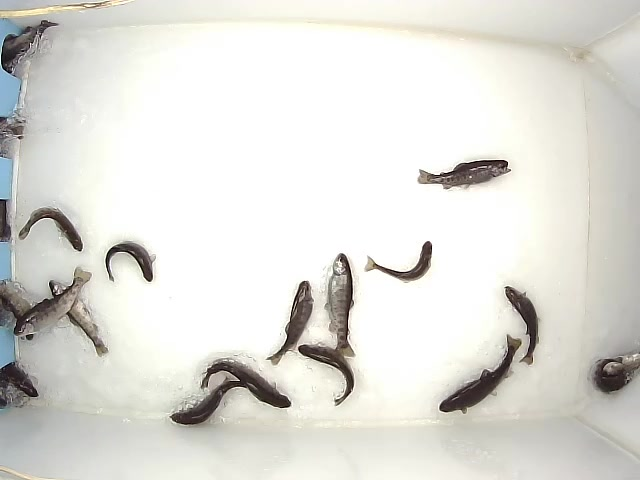fish: (438, 333, 523, 415), (13, 266, 93, 337), (48, 279, 110, 358), (200, 357, 292, 409), (265, 279, 315, 367), (169, 377, 251, 426), (298, 344, 355, 407), (324, 252, 357, 359), (503, 284, 542, 367), (363, 240, 433, 284), (18, 206, 83, 253), (415, 159, 512, 190), (105, 240, 156, 283)
